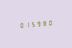eight: (42, 19, 47, 27)
five: (30, 20, 35, 28)
nine: (36, 20, 41, 27)
one: (23, 21, 28, 28)
zero: (17, 21, 22, 29), (48, 18, 53, 26)
